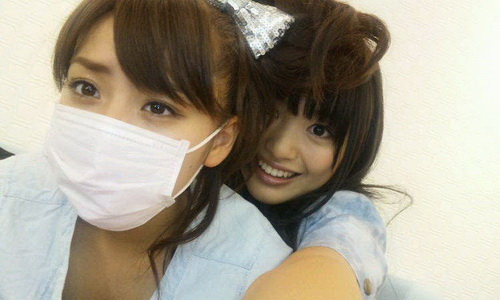face: (243, 64, 345, 201)
face_mask: (49, 16, 217, 229)
